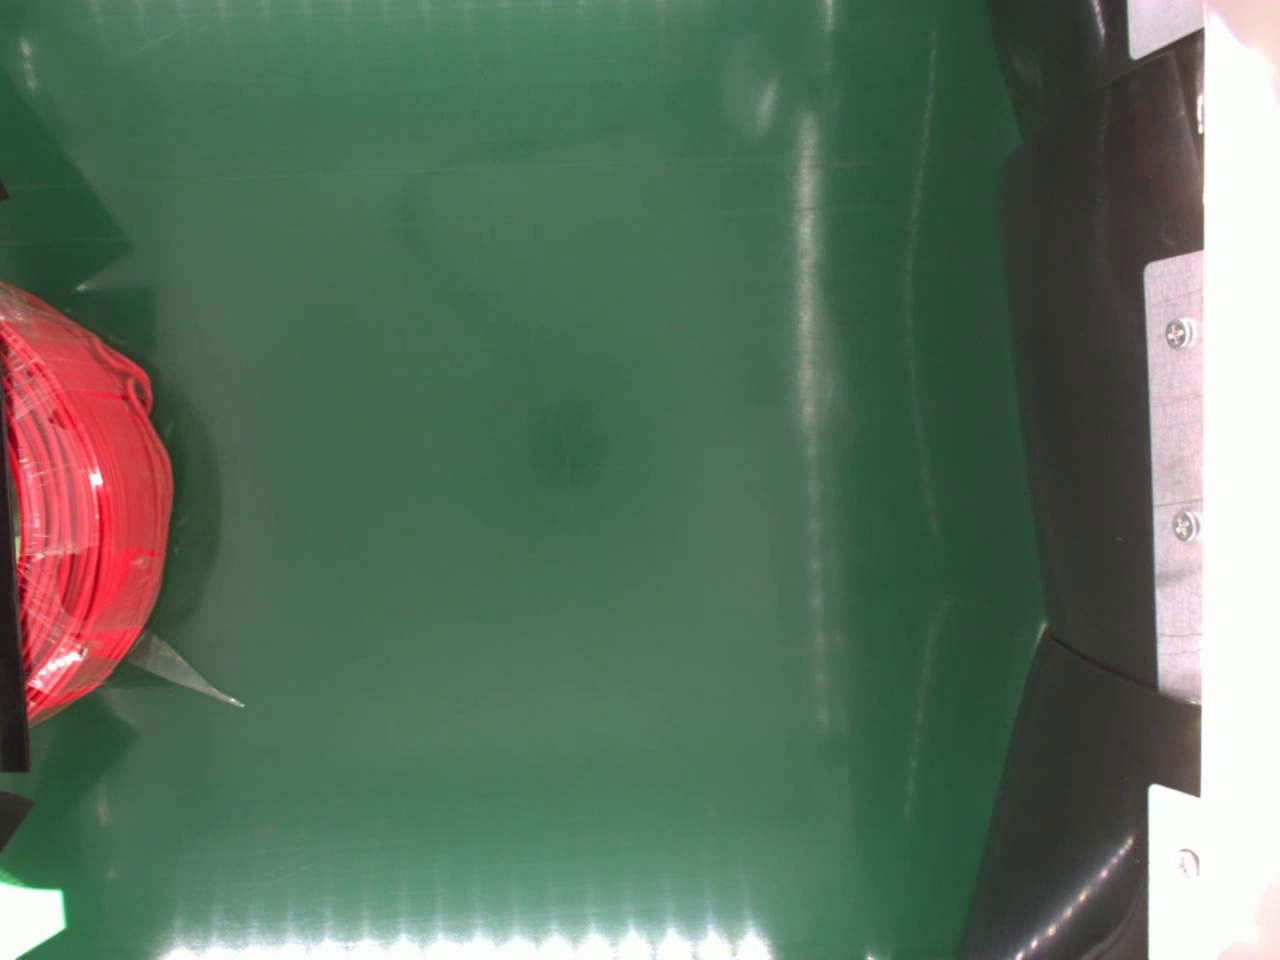red: (0, 278, 177, 727)
